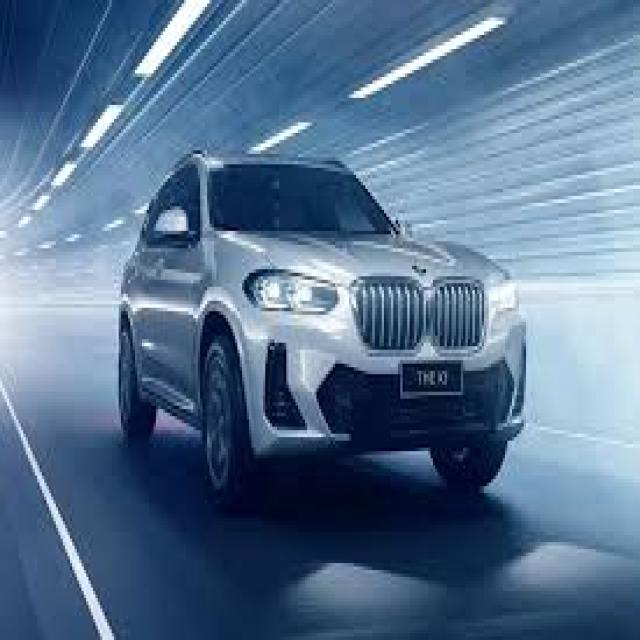SUV: (108, 149, 529, 508)
